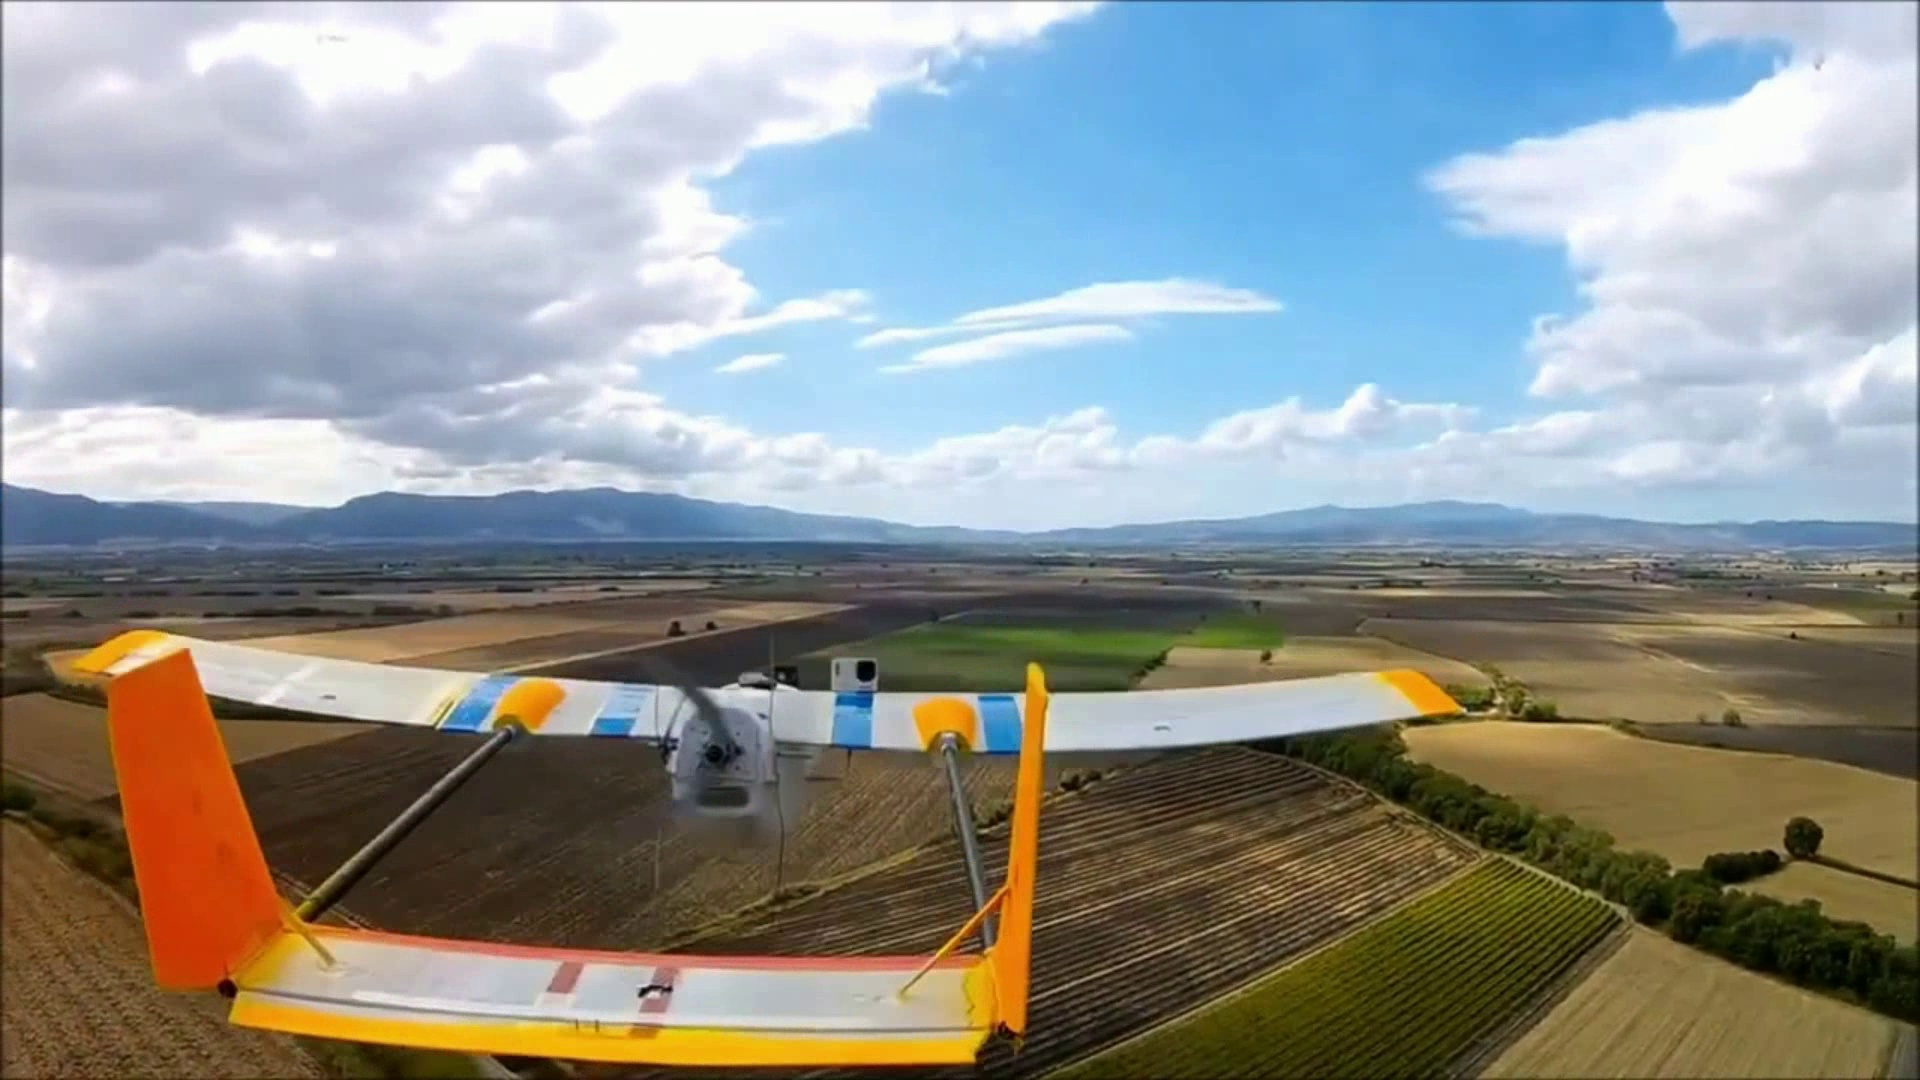airplane: (40, 625, 1505, 1063)
